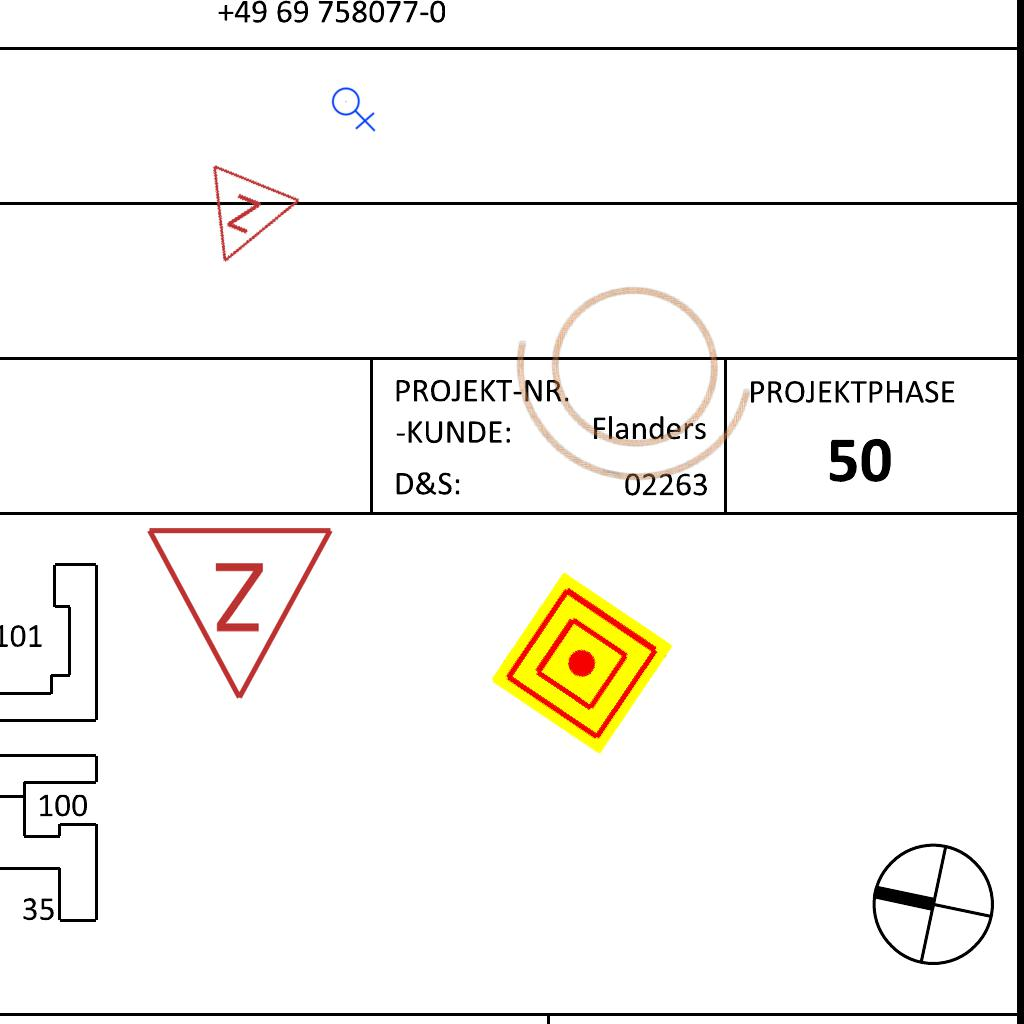Elektroanschluss_allgemein_230V_Geraeteanschlussdose_230V: (331, 83, 378, 132)
NAM-Nichtautomatischer_Melder: (490, 571, 674, 755)
Scheinwerfer_fuer_Alarmbeleuchtung: (486, 240, 792, 515)
Zimmersignalleuchte: (144, 513, 340, 713), (177, 157, 307, 287)
